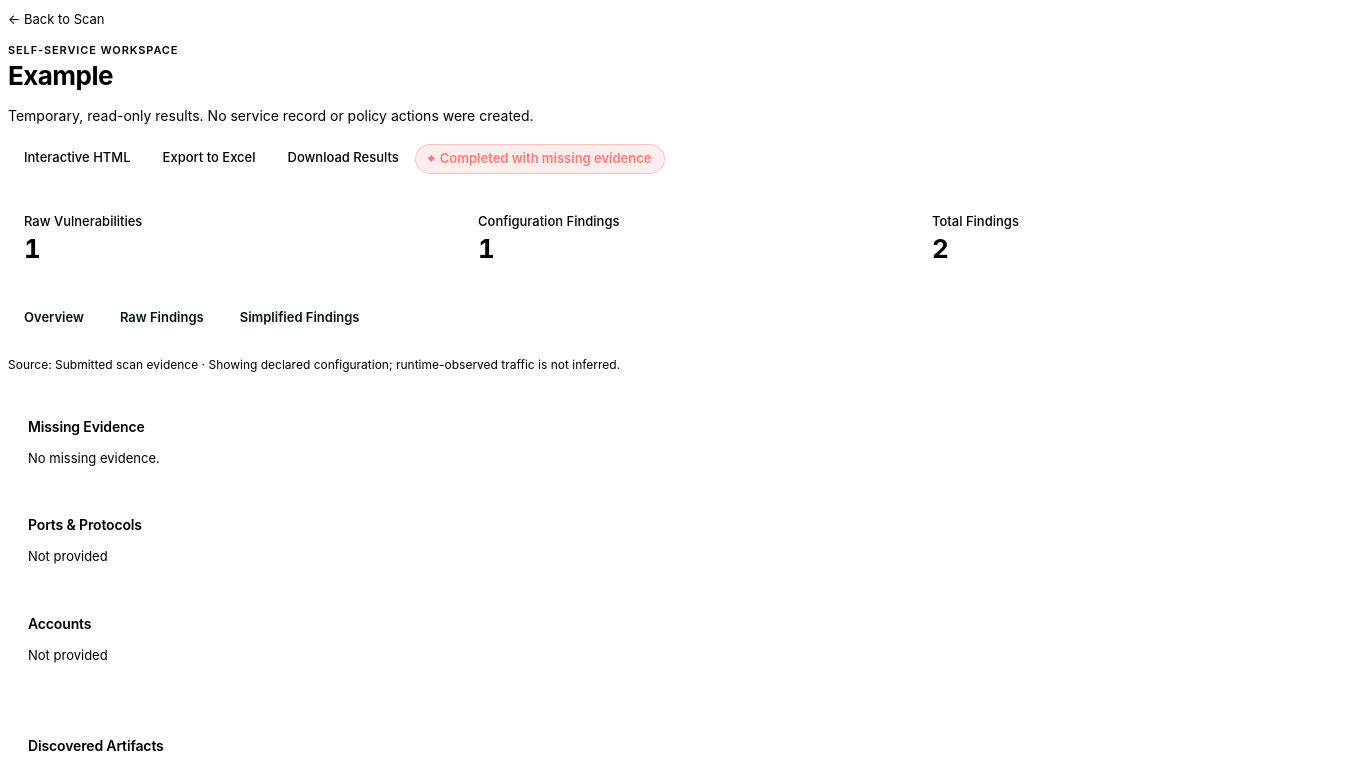
Scenario: public scan results › preserves exports, raw/simplified filters and safe finding detail references
This screenshot has width=1366, height=768.
Click the button "Raw Findings".
click(162, 318)  # box [104, 300, 220, 336]
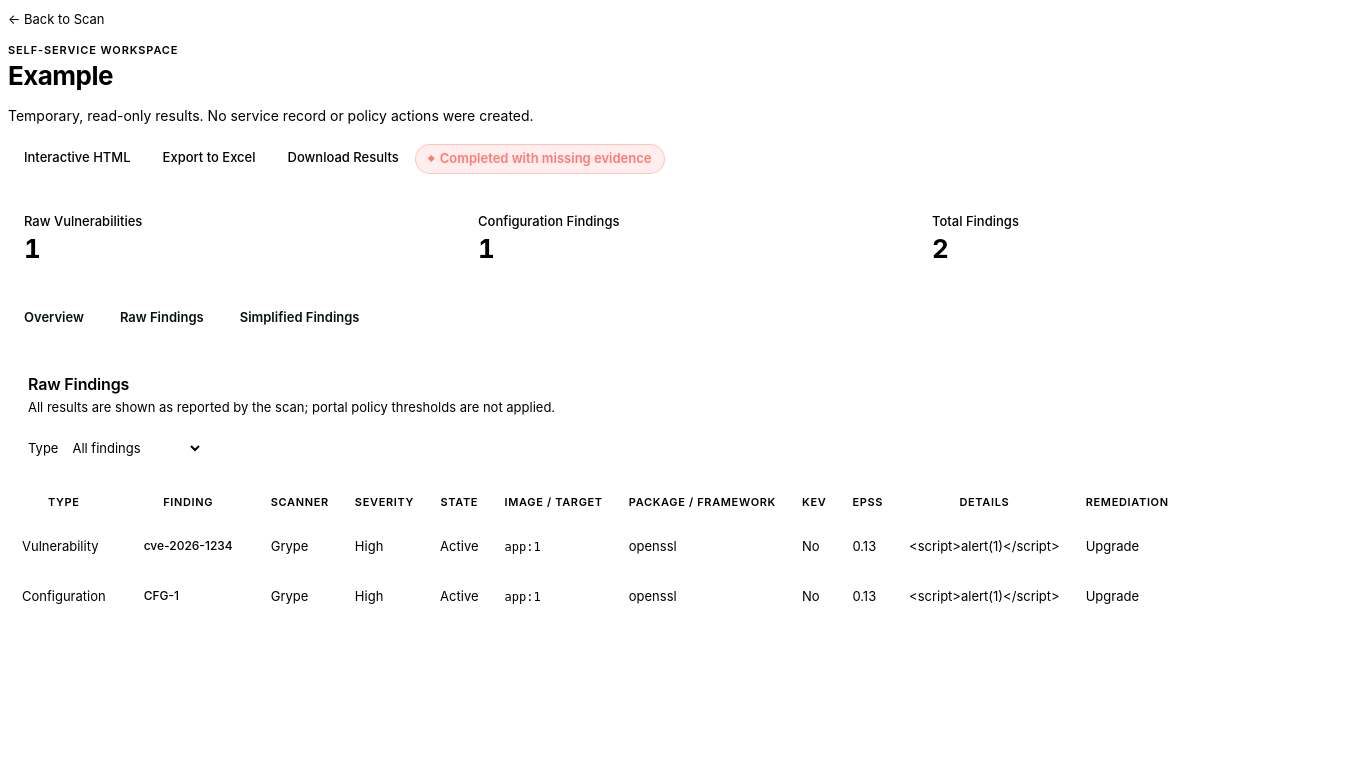
Check: the text "0.13" in the row of "Vulnerability" is shown, box [852, 538, 876, 554]
Select "Vulnerabilities" in the dropdown labelled "Type" at (131, 448), box [58, 430, 203, 466]
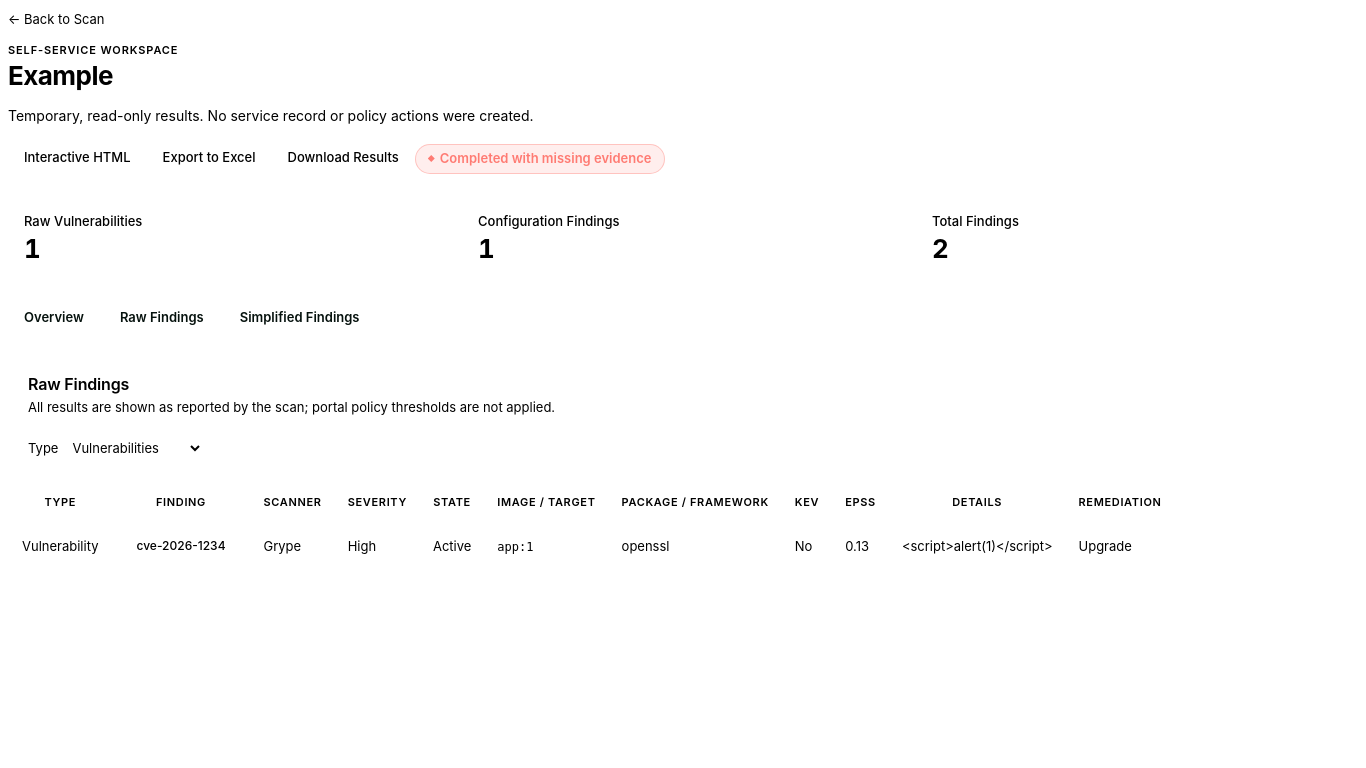
Check: the button "CFG-1" is gone
Click the button "Simplified Findings".
click(300, 318)  # box [224, 300, 376, 336]
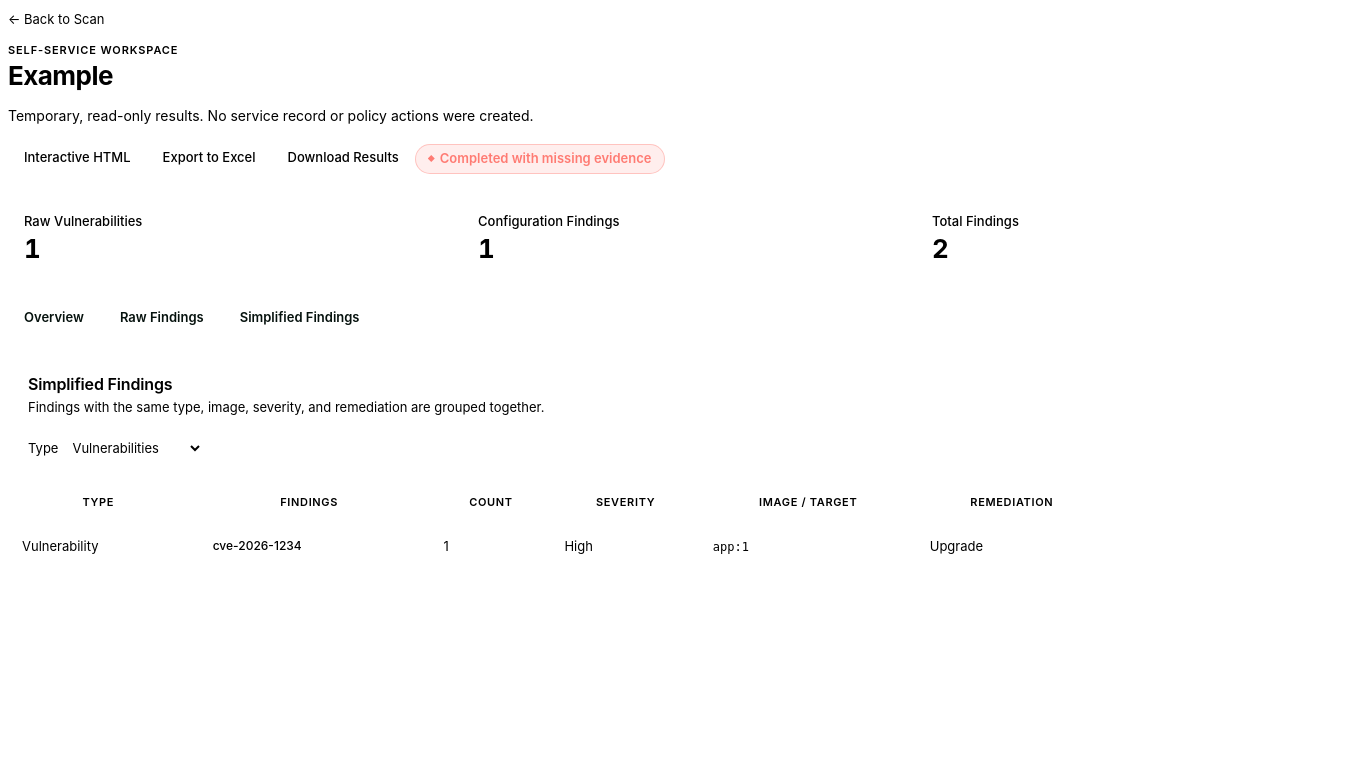
Click the button "cve-2026-1234".
click(257, 547)  # box [201, 533, 314, 561]
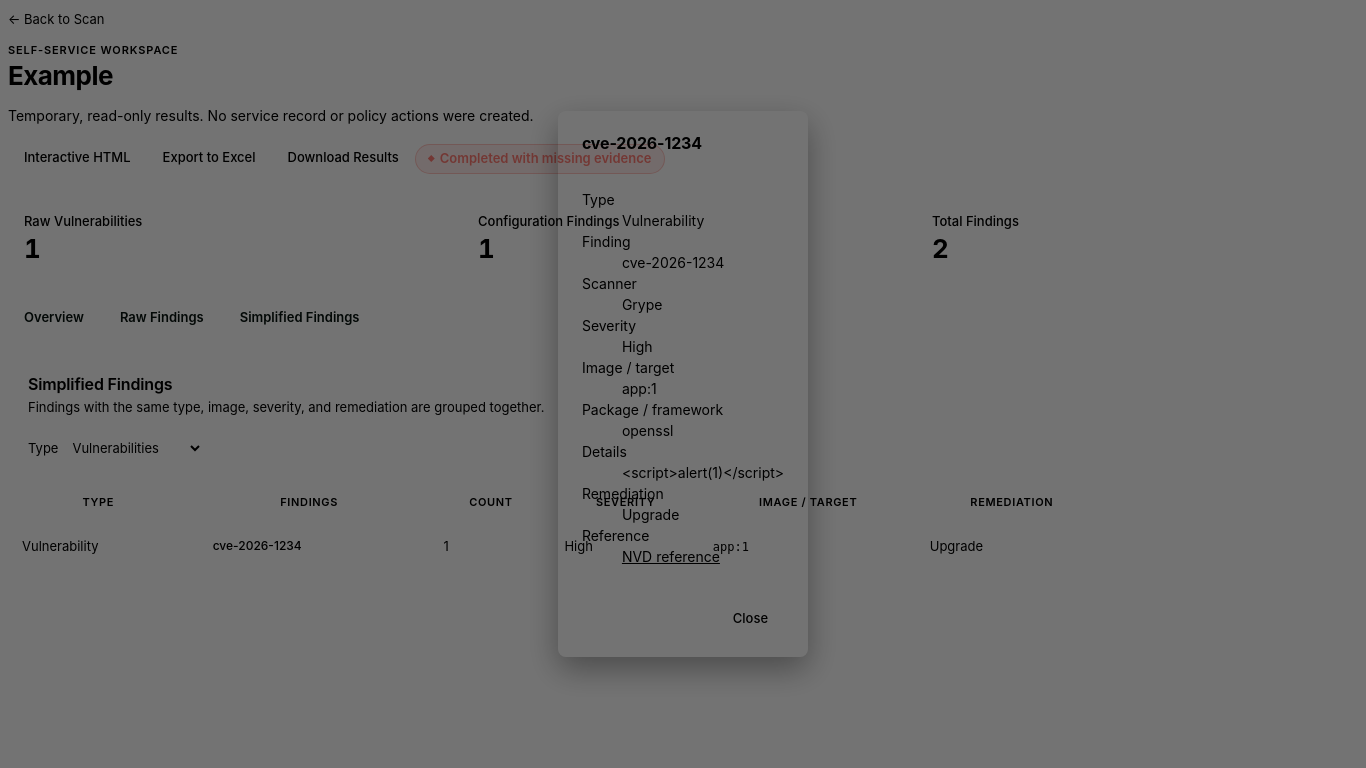
Check: the text "<script>alert(1)</script>" is shown, box [622, 462, 784, 483]
